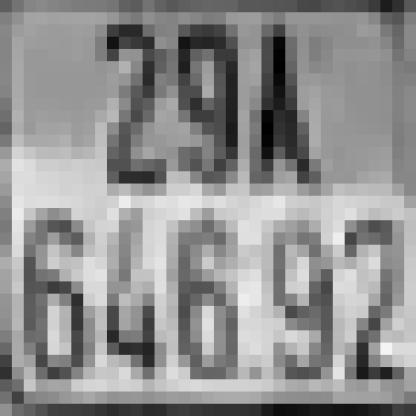2: (95, 25, 166, 184), (333, 208, 392, 367)
4: (107, 208, 166, 367)
6: (24, 208, 95, 367), (178, 208, 238, 367)
9: (250, 208, 321, 367), (166, 25, 226, 184)
A: (238, 24, 309, 196)
